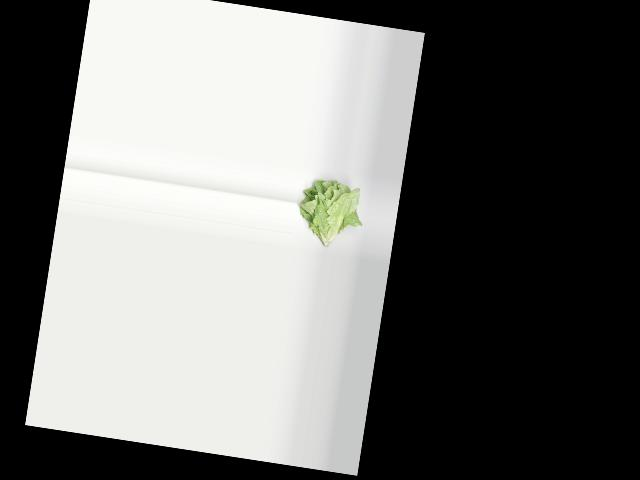lettuce: (289, 172, 367, 256)
